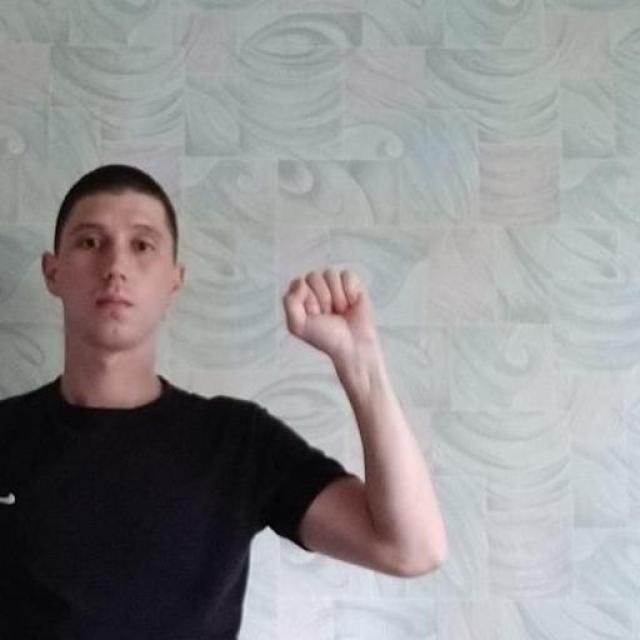hand: (281, 265, 379, 357)
